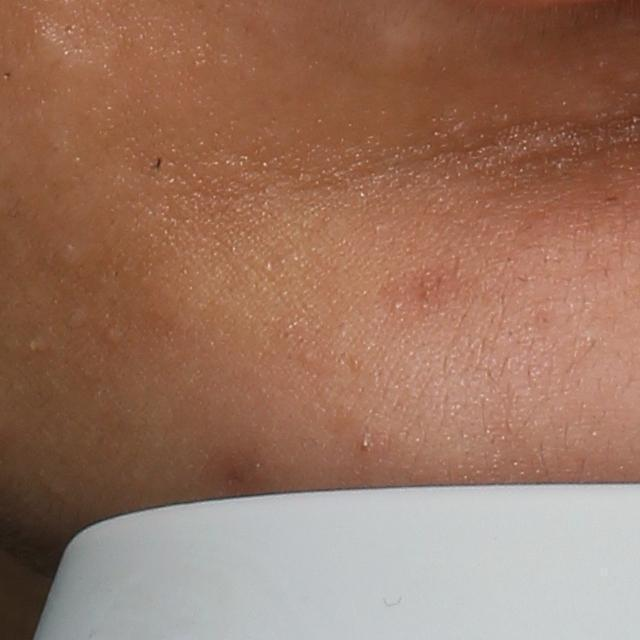comedo: (100, 323, 129, 343)
hypertrophic_scar: (31, 23, 134, 90)
